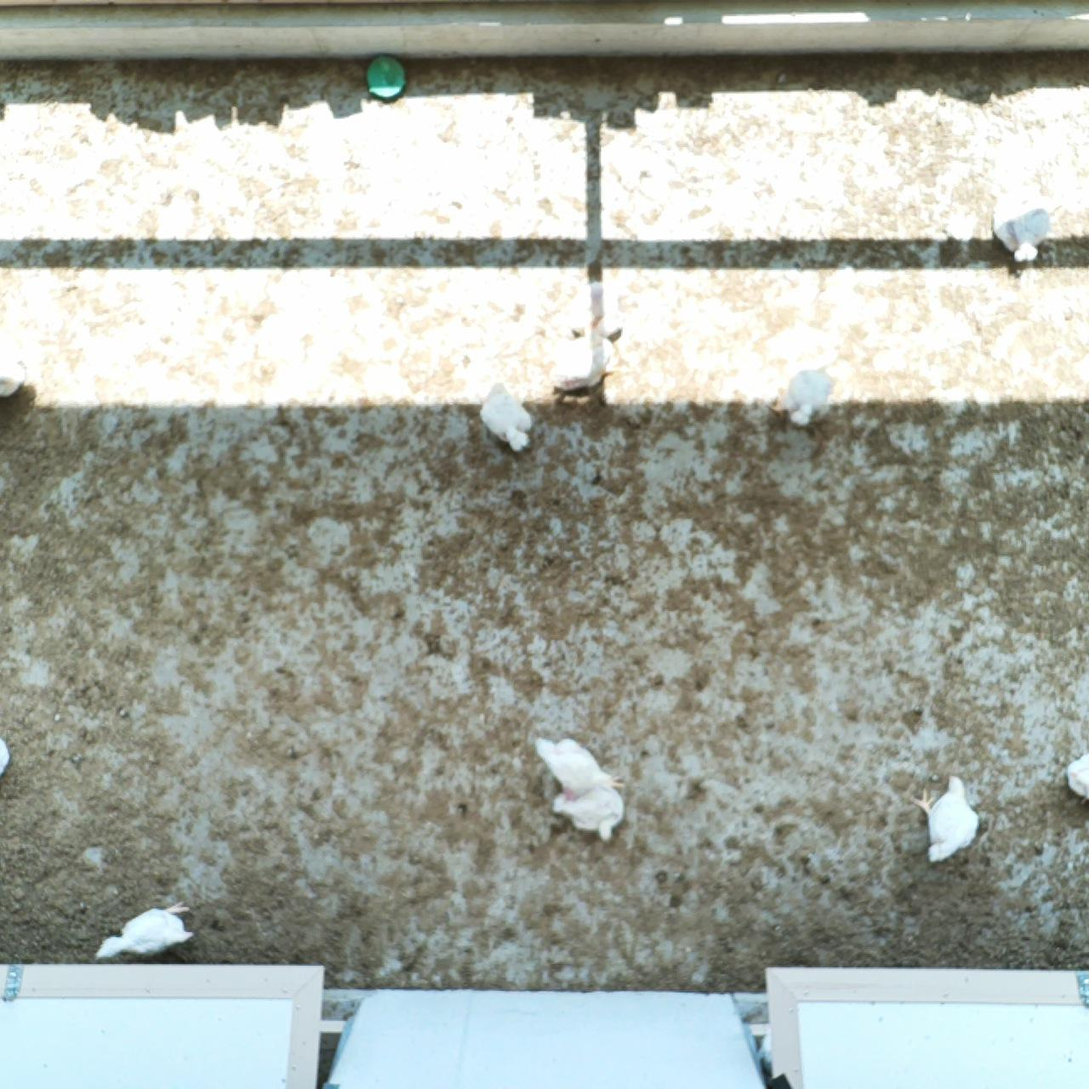chicken: (93, 897, 200, 964), (910, 770, 983, 865), (988, 168, 1057, 268), (530, 730, 626, 801), (763, 359, 843, 429), (475, 376, 540, 458), (550, 784, 630, 844), (553, 278, 627, 341), (549, 331, 615, 398), (0, 347, 27, 401), (1063, 749, 1089, 804)
